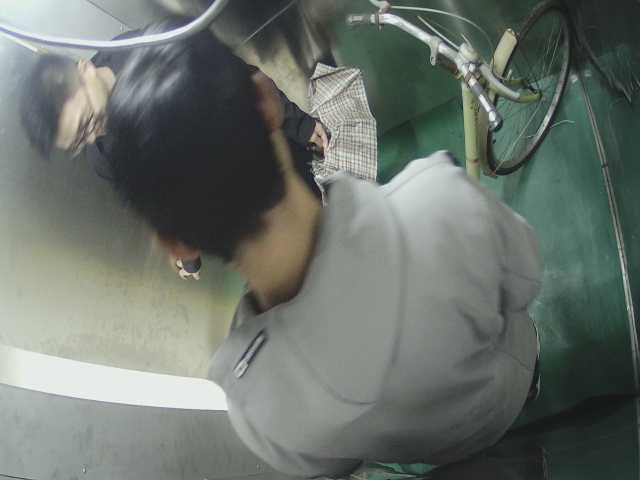bicycle: (336, 1, 581, 193)
person: (117, 57, 544, 457), (18, 32, 145, 199)
